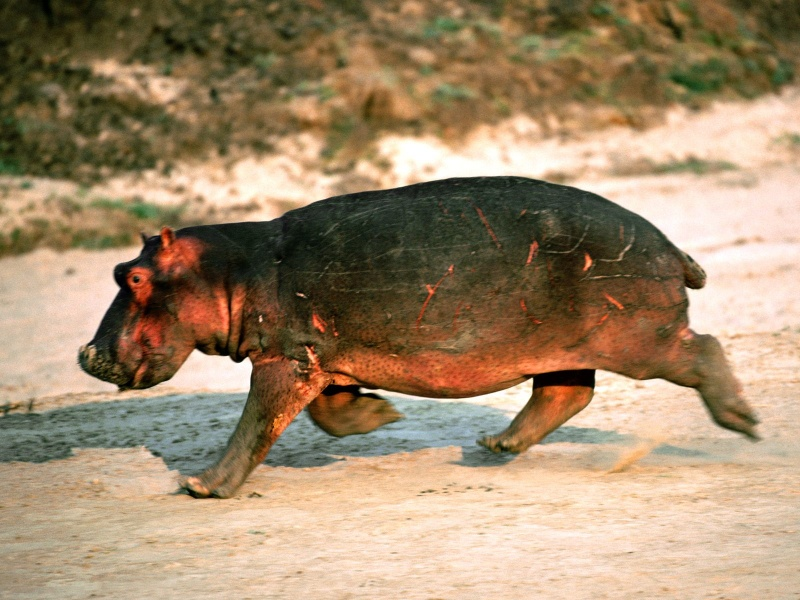hipopotamo: (76, 176, 763, 501)
